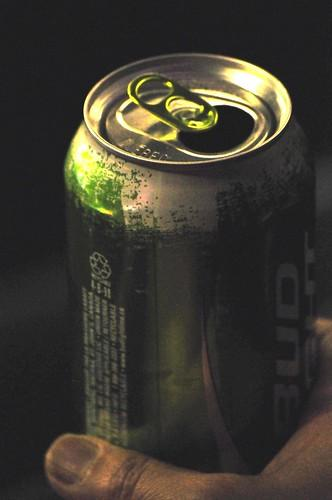metal: (66, 53, 315, 474)
